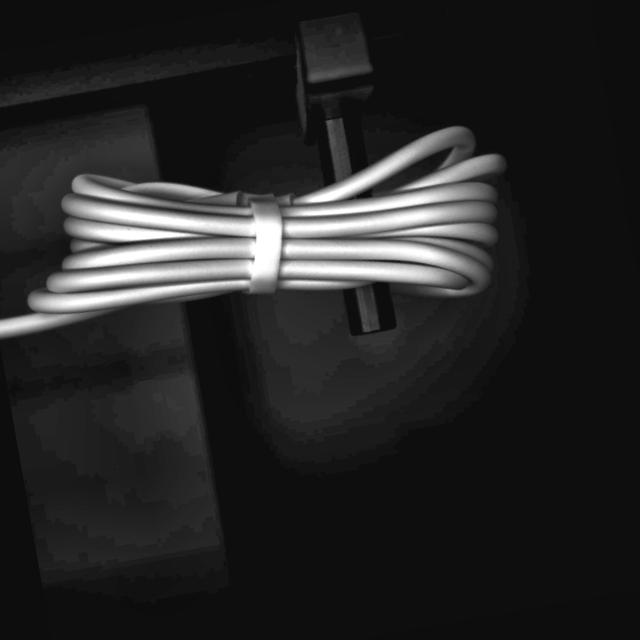Cable: (0, 96, 535, 381)
